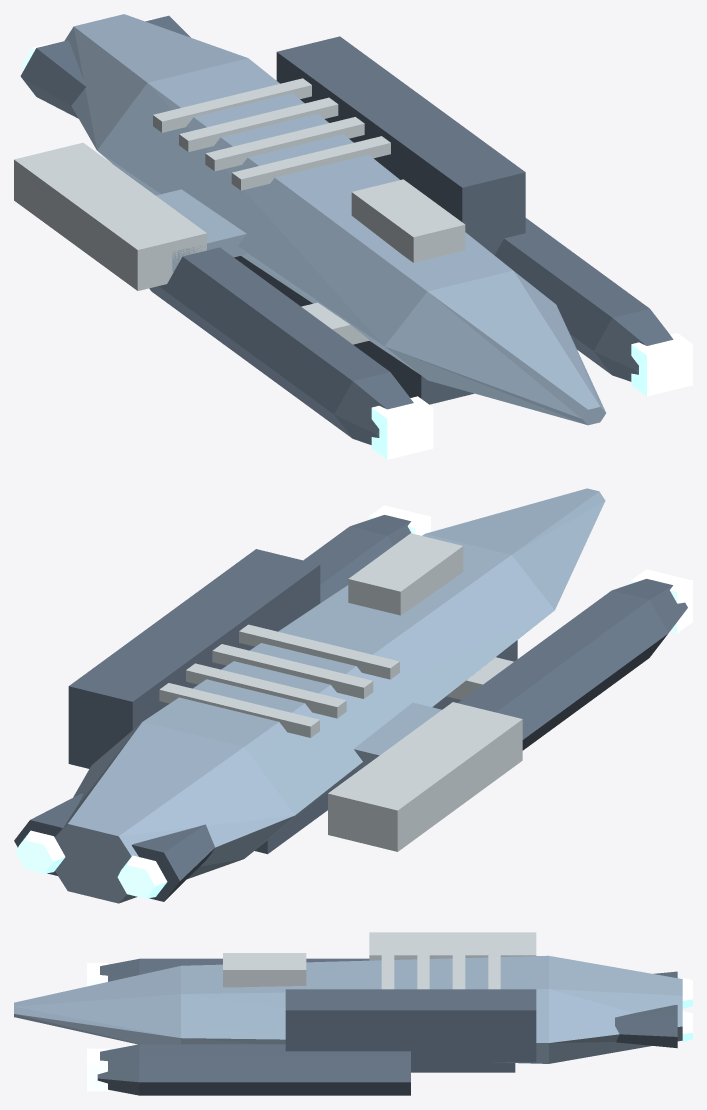
3 renders of one model, top to bottom at view 1: azimuth 30°, elevation 25°; view 2: azimuth 150°, elevation 25°; view 3: azimuth 270°, elevation 25°, orthographic. The views are drawn at different scales.
Size of the model in its own units: 2.82 by 1.06 by 6.82.
